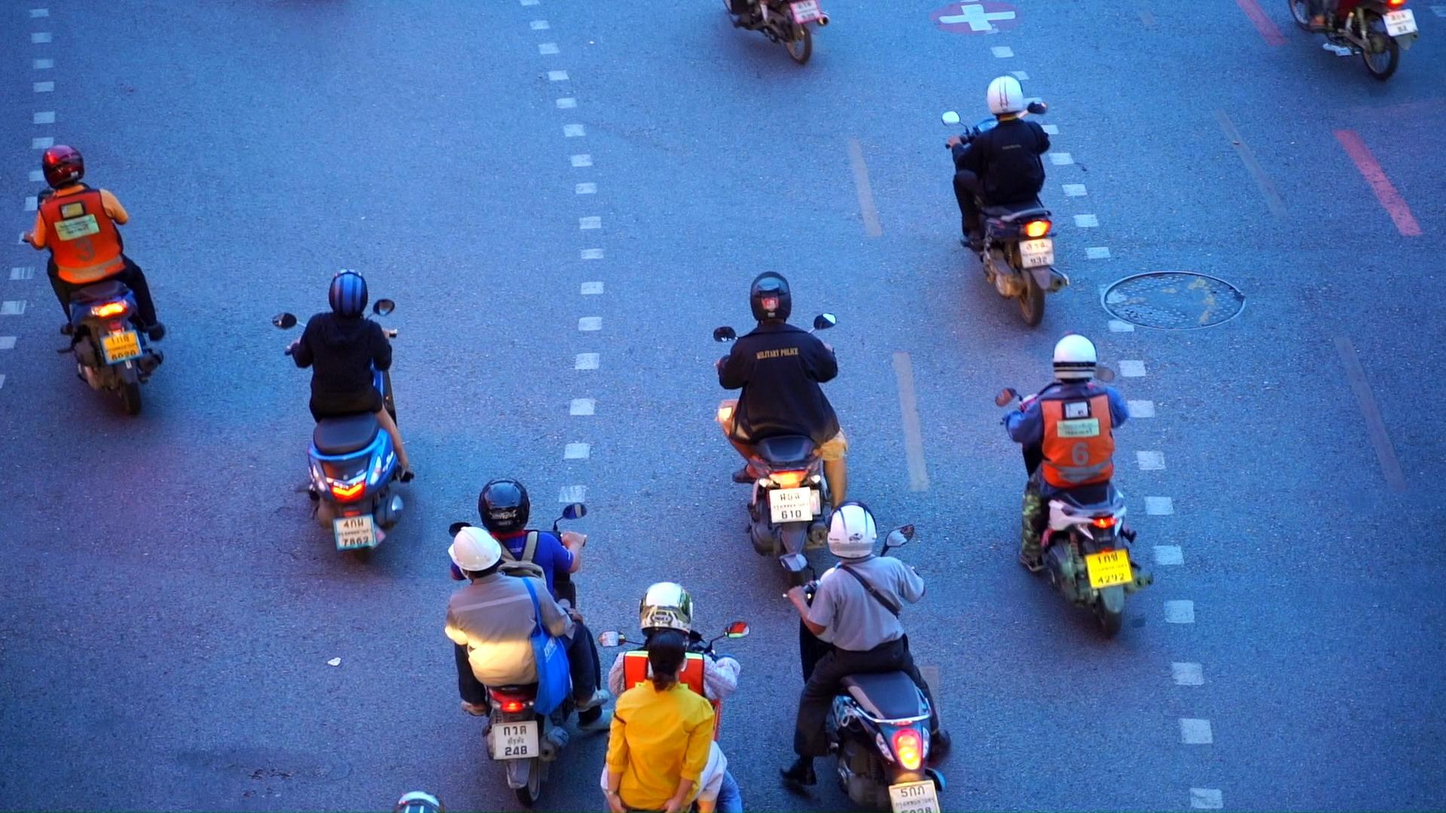driver: (444, 476, 615, 809), (777, 499, 952, 813), (995, 330, 1154, 639), (711, 271, 851, 587), (273, 268, 414, 562), (21, 144, 165, 416), (598, 581, 749, 813), (941, 71, 1070, 328), (1288, 0, 1418, 81)
helmet: (448, 526, 502, 586), (639, 581, 694, 639), (477, 477, 531, 535), (827, 499, 878, 560), (1051, 330, 1098, 385), (750, 270, 792, 328), (43, 145, 86, 195), (328, 267, 369, 318), (987, 70, 1025, 122)
no-helmet: (648, 628, 688, 693)
